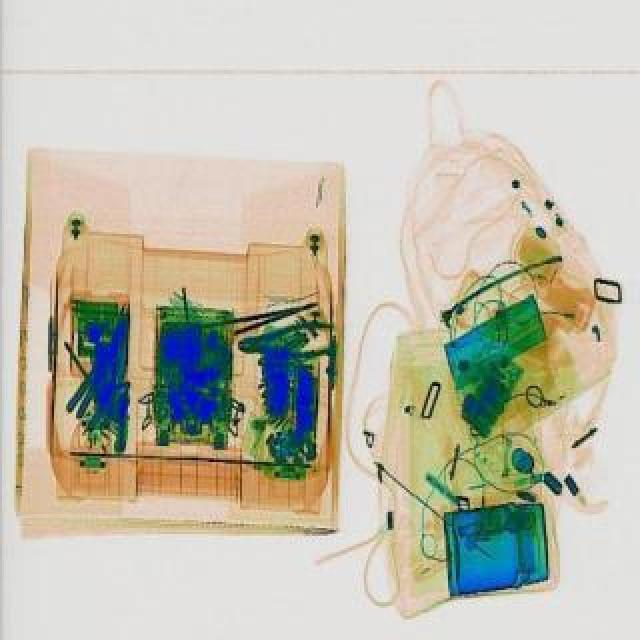wrench: (234, 314, 334, 362)
